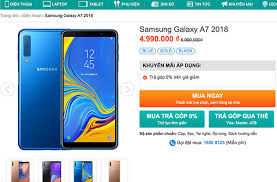samsung: (59, 27, 116, 149), (15, 27, 63, 149)
